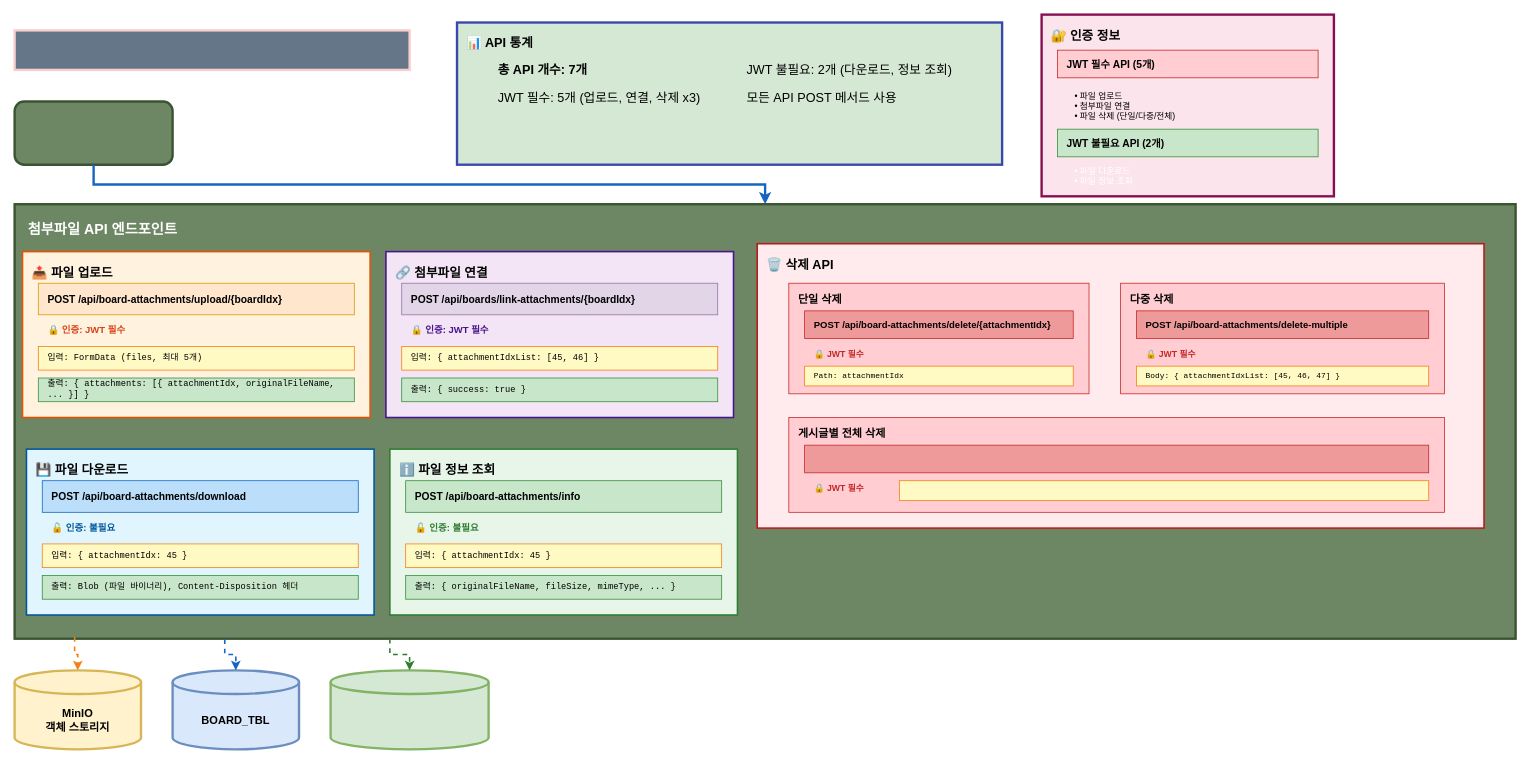
The diagram is 1530 pixels wide and 764 high, and some of its shapes have lost their labels. Here are the shapes that lost their labels. From the top down, the centre of each, then its label:
At point 211,50: "첨부파일 API 전체 구조".
At point 93,133: "프론트엔드 클라이언트".
At point 1116,458: "POST /api/board-attachments/delete-all/{boardIdx}".
At point 1164,490: "Path: boardIdx (게시글의 모든 첨부파일 삭제)".
At point 409,709: "BOARD_ATTACHMENT_TBL".
